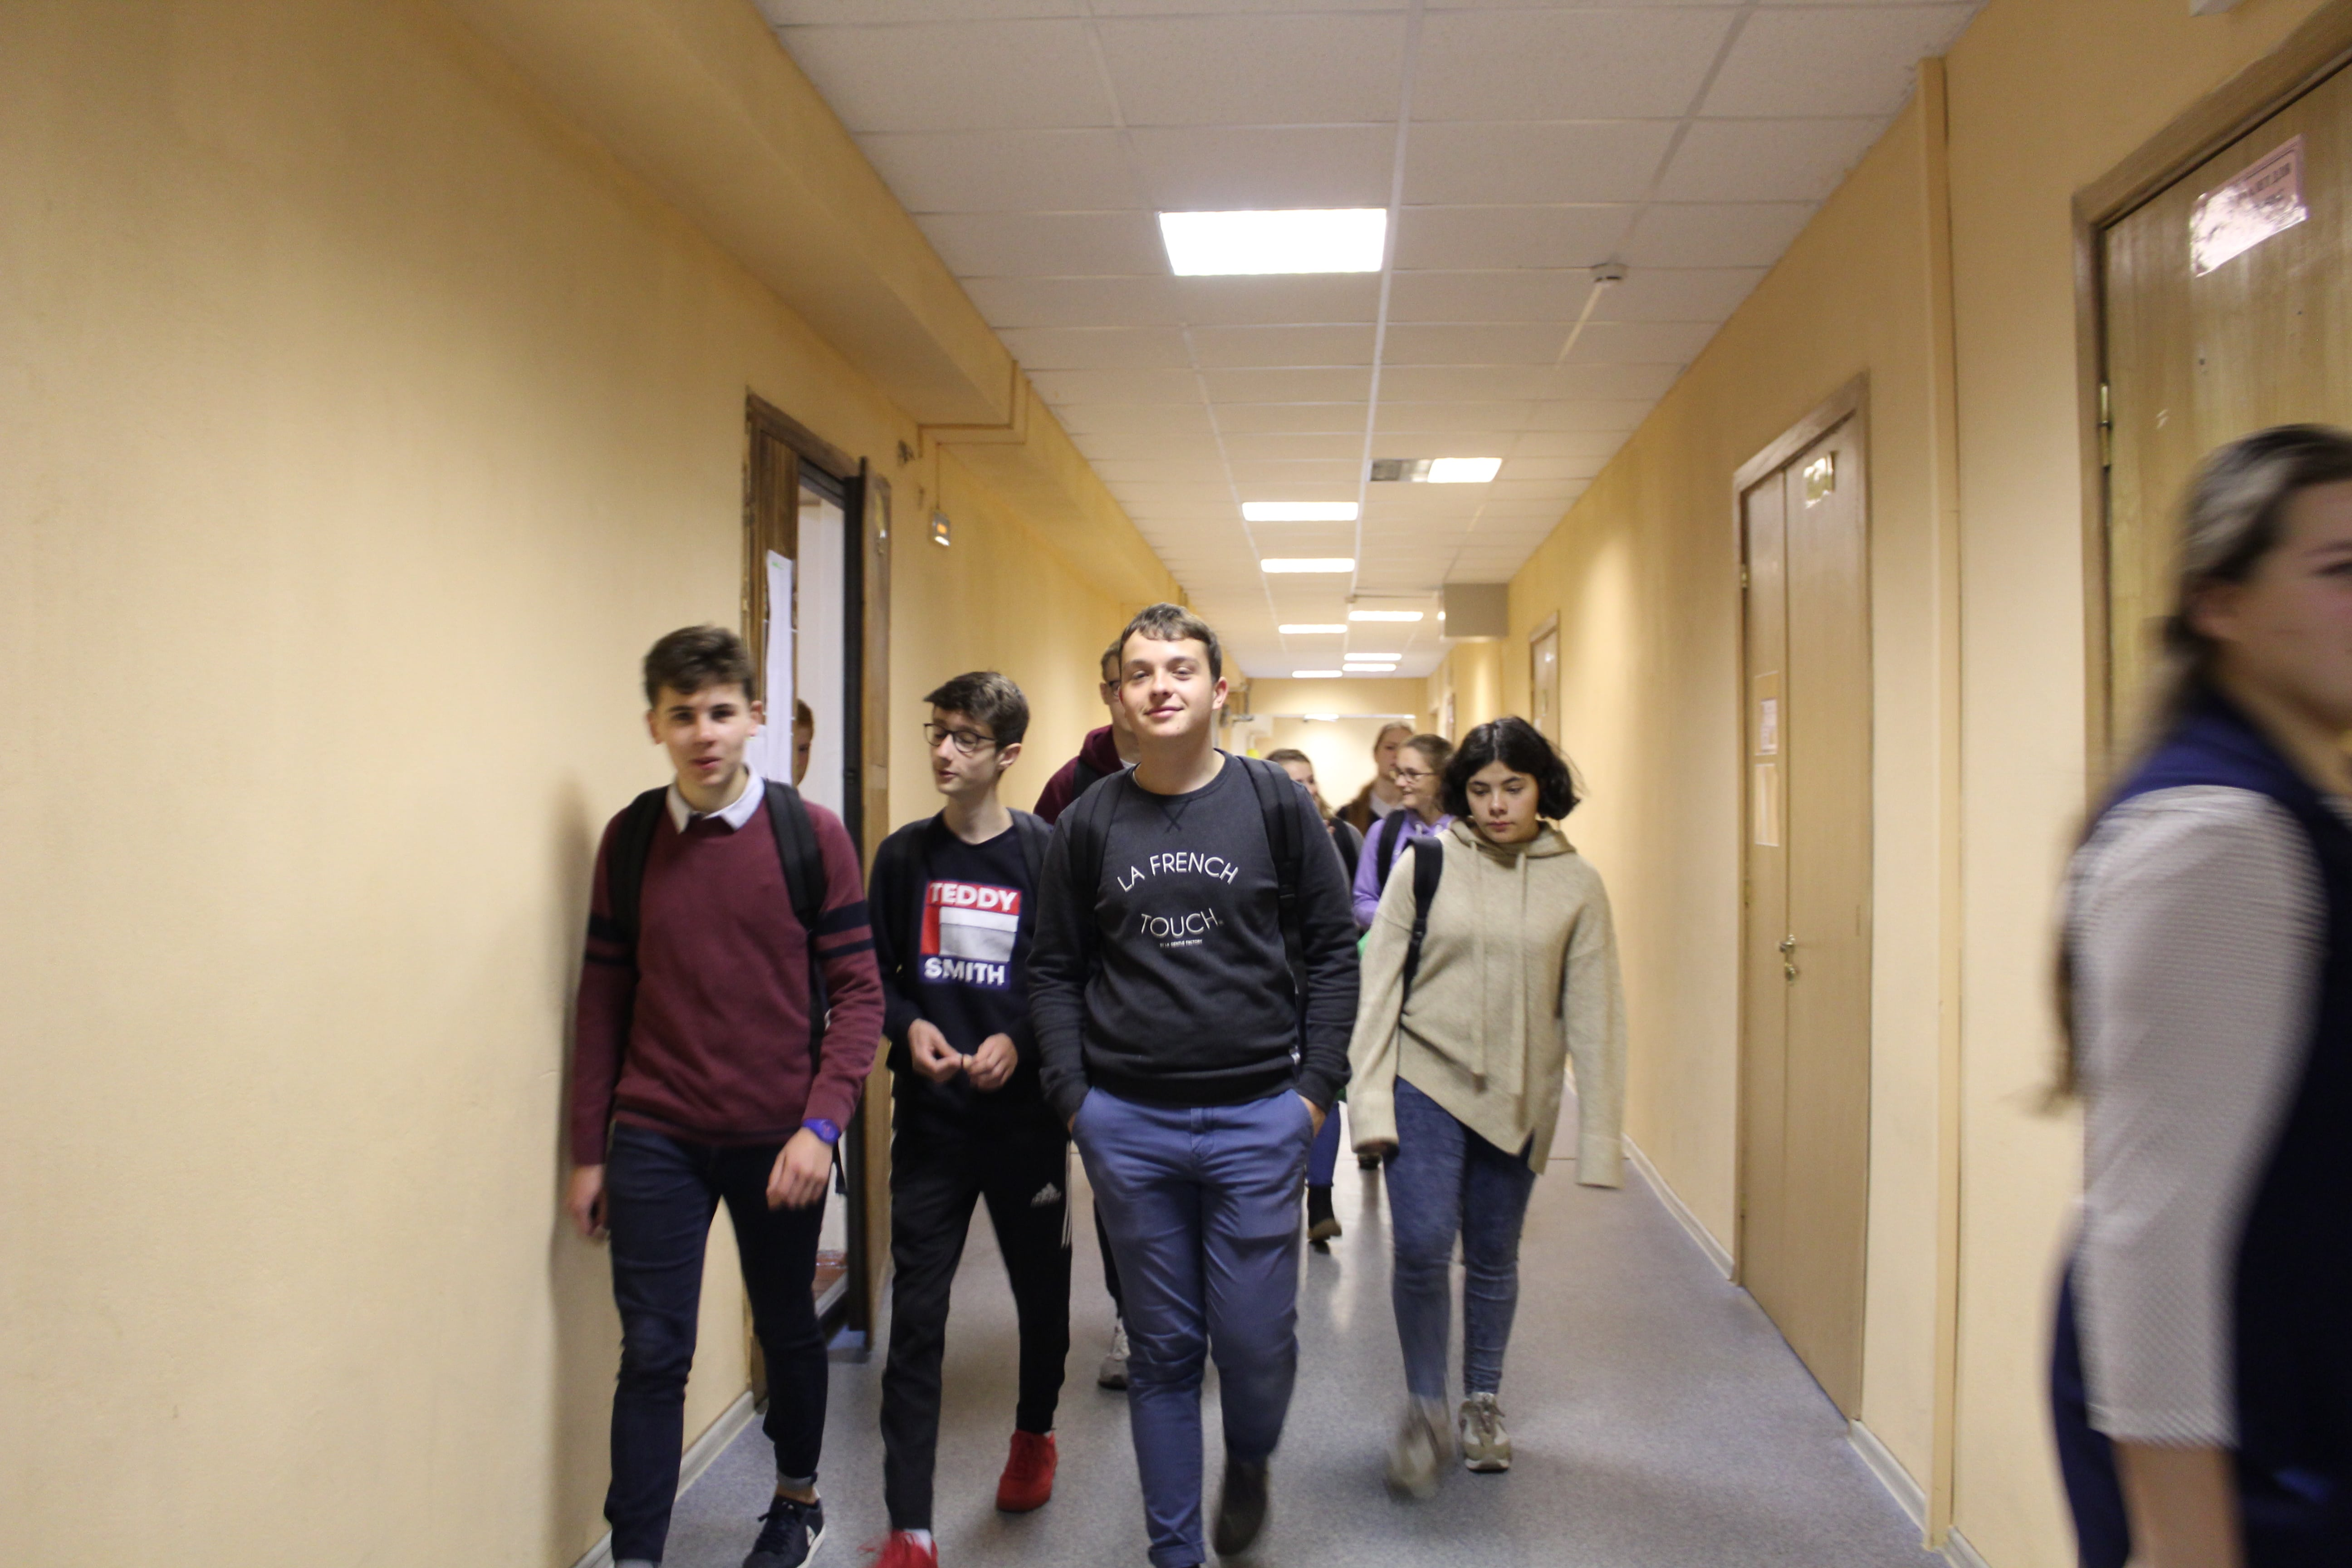students: (2047, 417, 2352, 1562), (1031, 601, 1363, 1553), (563, 618, 888, 1558), (1352, 709, 1635, 1508), (869, 667, 1068, 1552), (1352, 735, 1460, 928), (1047, 639, 1131, 814), (1263, 746, 1360, 870), (1347, 720, 1415, 813), (793, 696, 832, 798)
